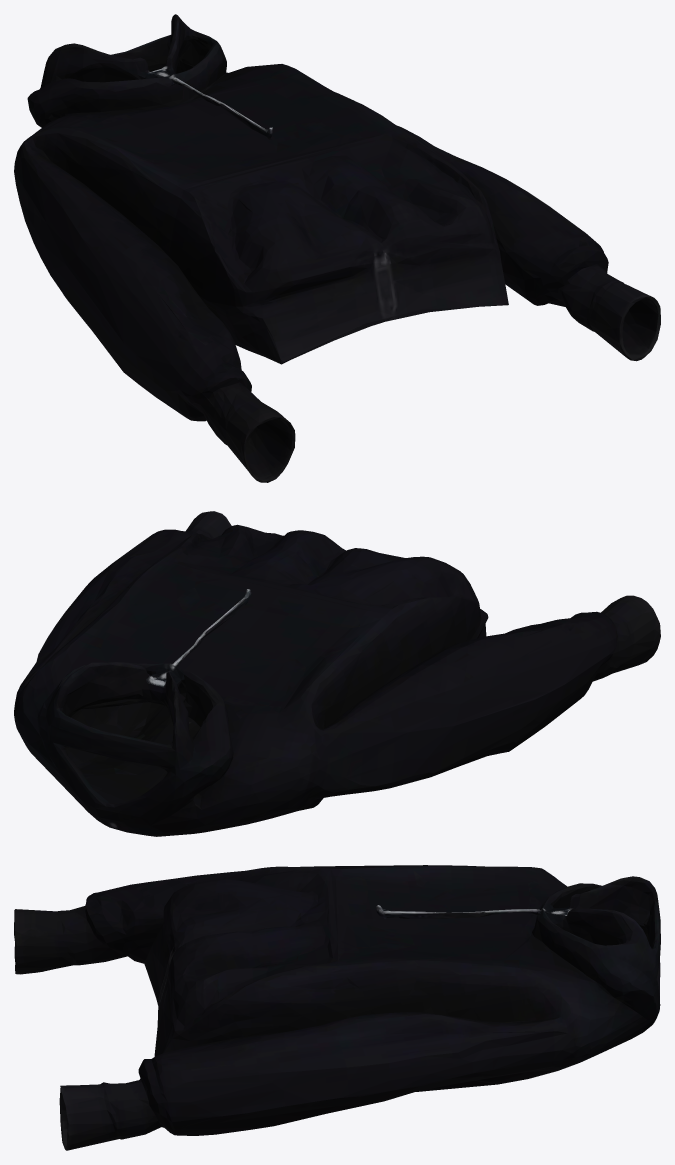
3 renders of one model, top to bottom at view 1: azimuth 30°, elevation 25°; view 2: azimuth 150°, elevation 25°; view 3: azimuth 270°, elevation 25°, orthographic. The views are drawn at different scales.
Visible parts, largest first — view 1: geometry_0; view 2: geometry_0; view 3: geometry_0.
Boxes of the visible parts, x1,y1,x2,y2 form: geometry_0: (14, 14, 660, 482); geometry_0: (14, 511, 660, 836); geometry_0: (14, 865, 660, 1150).
Size of the model in its own units: 0.7559 by 0.2836 by 0.998.
1 material, 1 textured.
